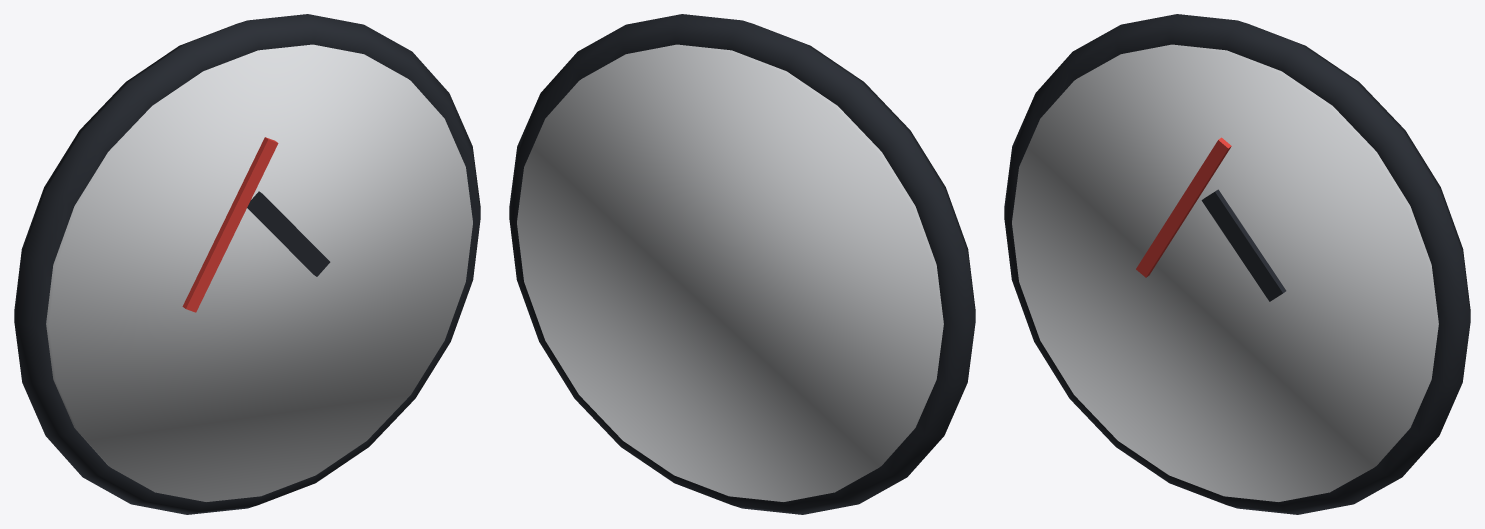
File: WallClock.fbx
The picture shows the model from 3 angles, left to right: view 1: azimuth 30°, elevation 25°; view 2: azimuth 150°, elevation 25°; view 3: azimuth 330°, elevation 25°; orthographic projection.
Visible parts, largest first — view 1: WallClockBody; view 2: WallClockBody; view 3: WallClockBody.
Part boxes in pixels (box(x1,y1,x2,y2)): WallClockBody: box(14, 14, 480, 514); WallClockBody: box(509, 14, 975, 514); WallClockBody: box(1004, 14, 1470, 514).
Size of the model in its own units: 0.396 by 0.396 by 0.0495.
